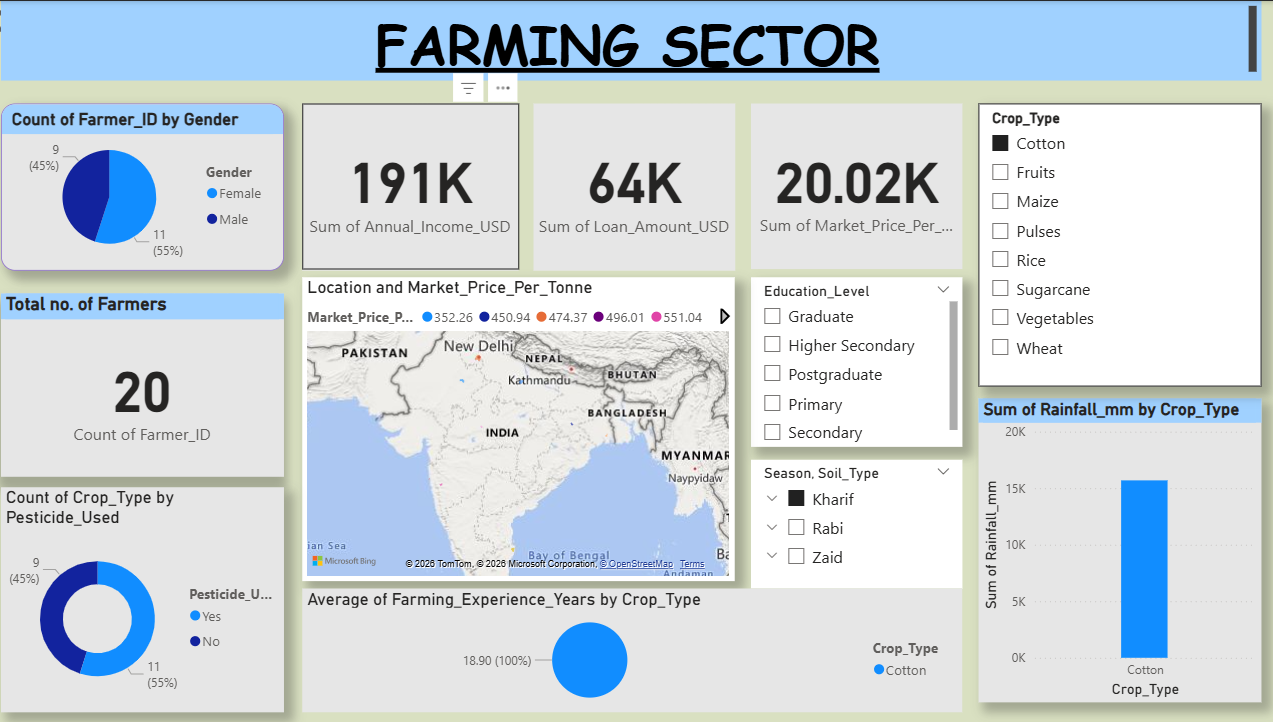

What the dashboard file says about the page in this screenshot:
{"tool":"powerbi","page":{"name":"Page 1","canvas":[1280,720],"ordinal":0},"visuals":[{"type":"card","title":"Total no. of Farmers","fields":{"Values":["CountNonNull(Agriculture_Data.Farmer_ID)"]},"box":[9.8,291,281.3,182.2],"z":1000},{"type":"pieChart","fields":{"Category":["Agriculture_Data.Gender"],"Y":["CountNonNull(Agriculture_Data.Farmer_ID)"]},"box":[9.8,101.5,281.3,166.3],"z":2000},{"type":"actionButton","box":[0,0,100,40],"z":3000},{"type":"slicer","fields":{"Values":["Agriculture_Data.Education_Level"]},"box":[755.7,275.1,210.3,168.8],"z":4000},{"type":"lineStackedColumnComboChart","fields":{"Y":["Sum(Agriculture_Data.Rainfall_mm)"],"Category":["Agriculture_Data.Crop_Type"]},"box":[983.2,395,281.3,302],"z":5000},{"type":"textbox","box":[9.8,0,1254.6,79.5],"z":6000},{"type":"filledMap","fields":{"Category":["Agriculture_Data.Location"],"Series":["Agriculture_Data.Market_Price_Per_Tonne"]},"box":[309.4,275.1,430.4,302],"z":7000},{"type":"card","fields":{"Values":["Sum(Agriculture_Data.Annual_Income_USD)"]},"box":[309.4,101.5,215,166.3],"z":8000},{"type":"card","fields":{"Values":["Sum(Agriculture_Data.Loan_Amount_USD)"]},"box":[539.3,101.5,200.5,166.3],"z":9000},{"type":"card","fields":{"Values":["Sum(Agriculture_Data.Market_Price_Per_Tonne)"]},"box":[755.7,101.5,210.3,165.1],"z":10000},{"type":"donutChart","fields":{"Y":["CountNonNull(Agriculture_Data.Crop_Type)"],"Category":["Agriculture_Data.Pesticide_Used"]},"box":[9.8,484.2,281.3,223.8],"z":10001},{"type":"slicer","fields":{"Values":["Agriculture_Data.Season","Agriculture_Data.Soil_Type"]},"box":[755.7,456.1,210.3,128.4],"z":10002},{"type":"pieChart","fields":{"Category":["Agriculture_Data.Crop_Type"],"Y":["Avg(Agriculture_Data.Farming_Experience_Years)"]},"box":[309.4,584.5,656.7,123.5],"z":10003},{"type":"slicer","fields":{"Values":["Agriculture_Data.Crop_Type"]},"box":[983.2,101.5,281.3,281.3],"z":10004}]}

Visuals, with their boxes in screenshot pixels (x1, y1, x2, y2), scaled from the page's 1280x720 canvas onto the 1273x722 screenshot:
"Total no. of Farmers" card: left=10, top=292, right=290, bottom=475
pieChart - Agriculture_Data.Gender x CountNonNull(Agriculture_Data.Farmer_ID): left=10, top=102, right=290, bottom=269
actionButton: left=0, top=0, right=99, bottom=40
slicer - Agriculture_Data.Education_Level: left=752, top=276, right=961, bottom=445
lineStackedColumnComboChart - Sum(Agriculture_Data.Rainfall_mm) x Agriculture_Data.Crop_Type: left=978, top=396, right=1258, bottom=699
textbox: left=10, top=0, right=1257, bottom=80
filledMap - Agriculture_Data.Location x Agriculture_Data.Market_Price_Per_Tonne: left=308, top=276, right=736, bottom=579
card - Sum(Agriculture_Data.Annual_Income_USD): left=308, top=102, right=522, bottom=269
card - Sum(Agriculture_Data.Loan_Amount_USD): left=536, top=102, right=736, bottom=269
card - Sum(Agriculture_Data.Market_Price_Per_Tonne): left=752, top=102, right=961, bottom=267
donutChart - CountNonNull(Agriculture_Data.Crop_Type) x Agriculture_Data.Pesticide_Used: left=10, top=486, right=290, bottom=710
slicer - Agriculture_Data.Season x Agriculture_Data.Soil_Type: left=752, top=457, right=961, bottom=586
pieChart - Agriculture_Data.Crop_Type x Avg(Agriculture_Data.Farming_Experience_Years): left=308, top=586, right=961, bottom=710
slicer - Agriculture_Data.Crop_Type: left=978, top=102, right=1258, bottom=384
